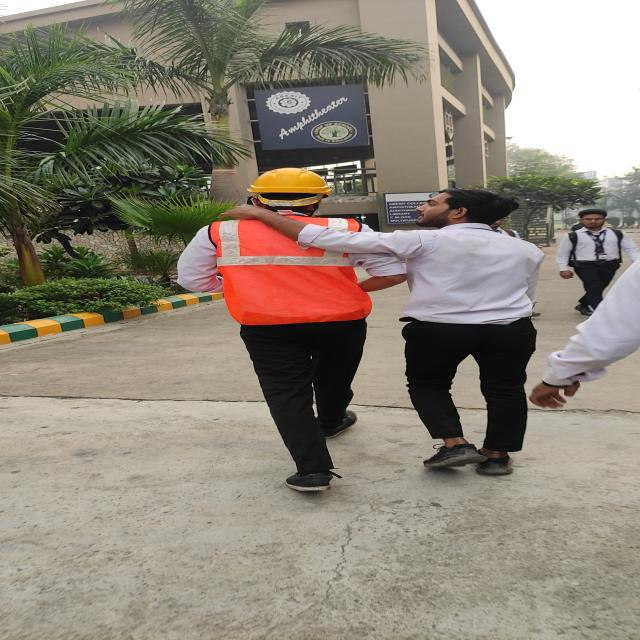safe: (216, 167, 378, 498)
unsafe: (387, 188, 545, 478), (553, 210, 632, 310)
